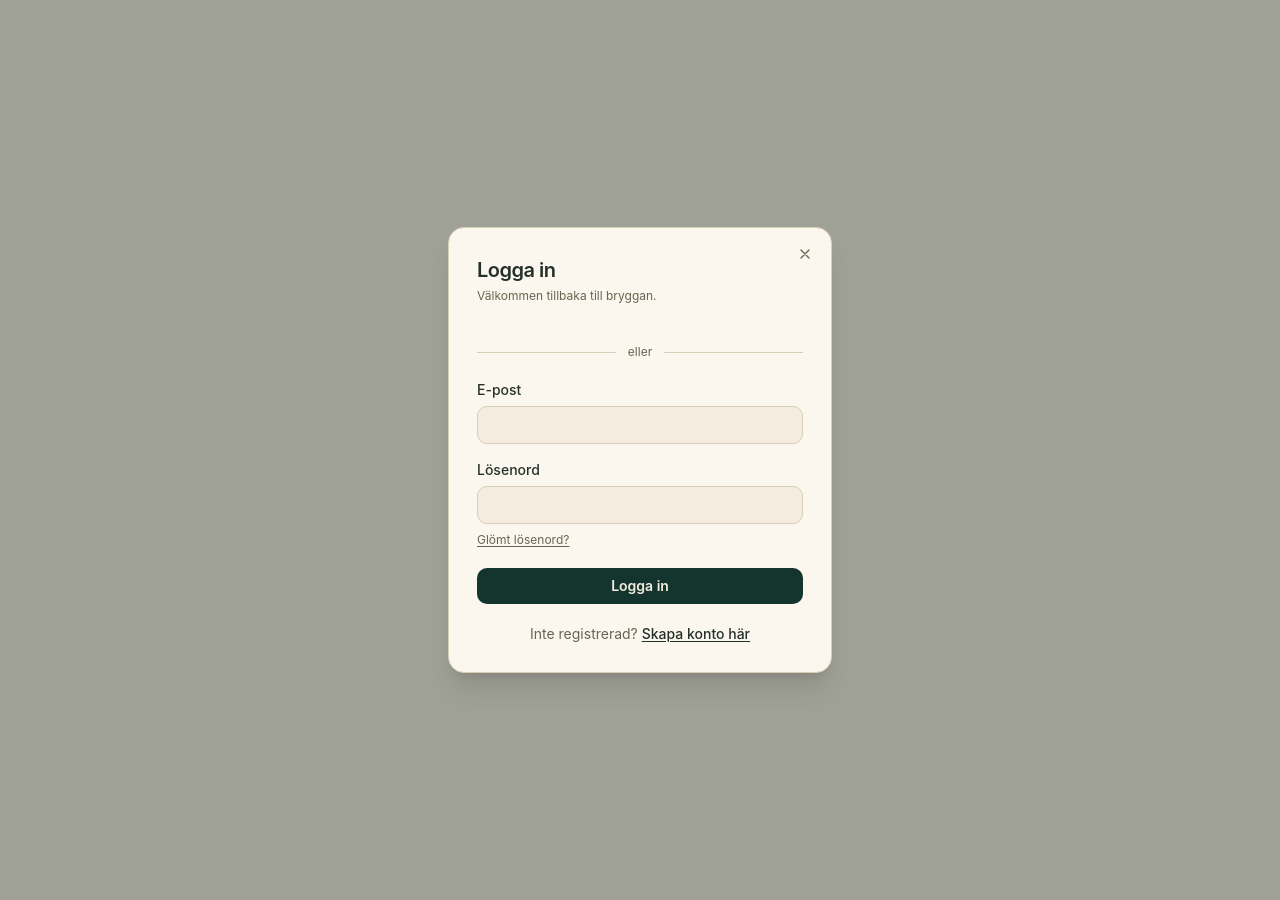
AuthDialog — email verification › unverified login shows the verify-first message
Type "anna@example.com" into the field labelled "E-post". click: (640, 425)
box: [477, 406, 803, 444]
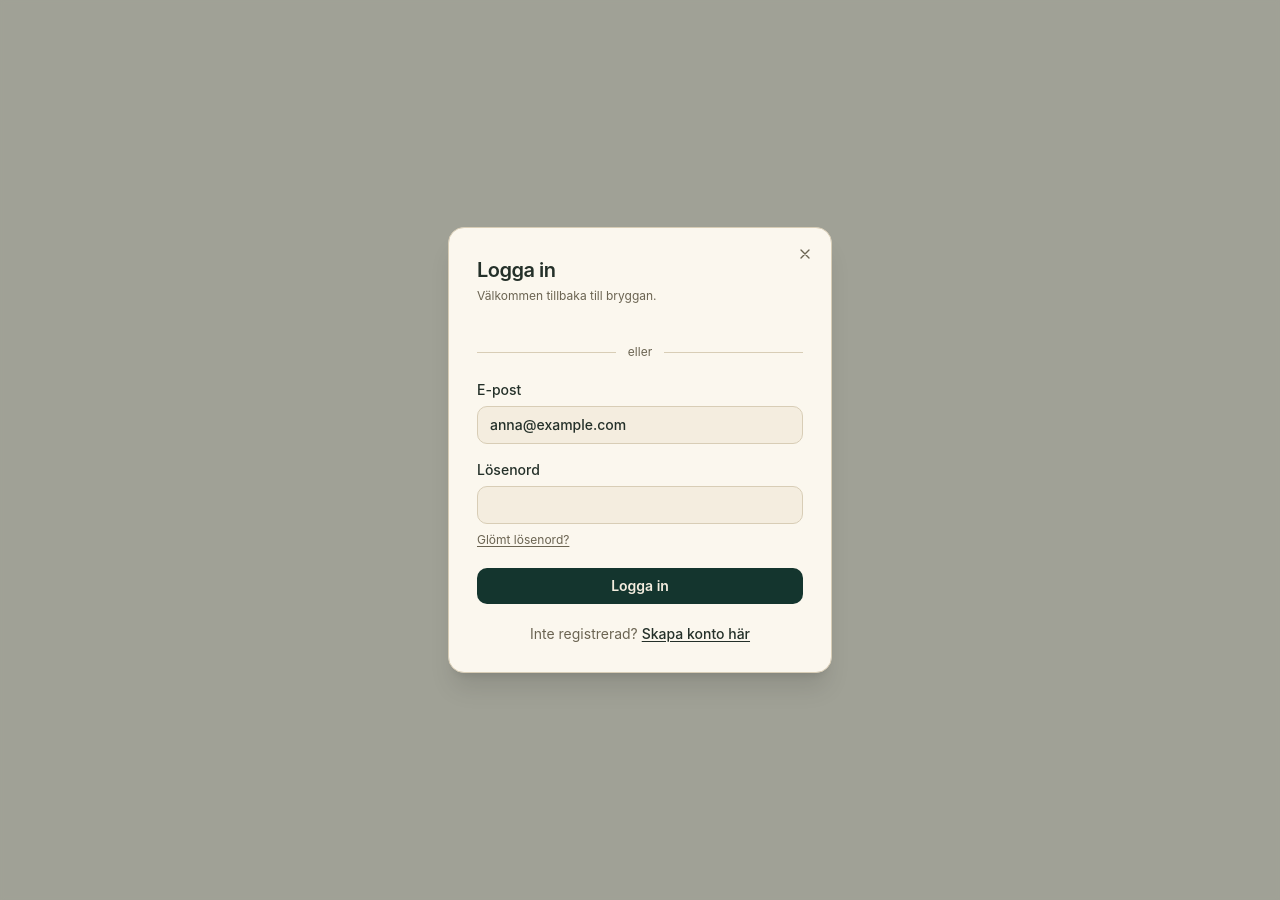
Type "password123" into the password field labelled "Lösenord". click: (640, 505)
box: [477, 486, 803, 524]
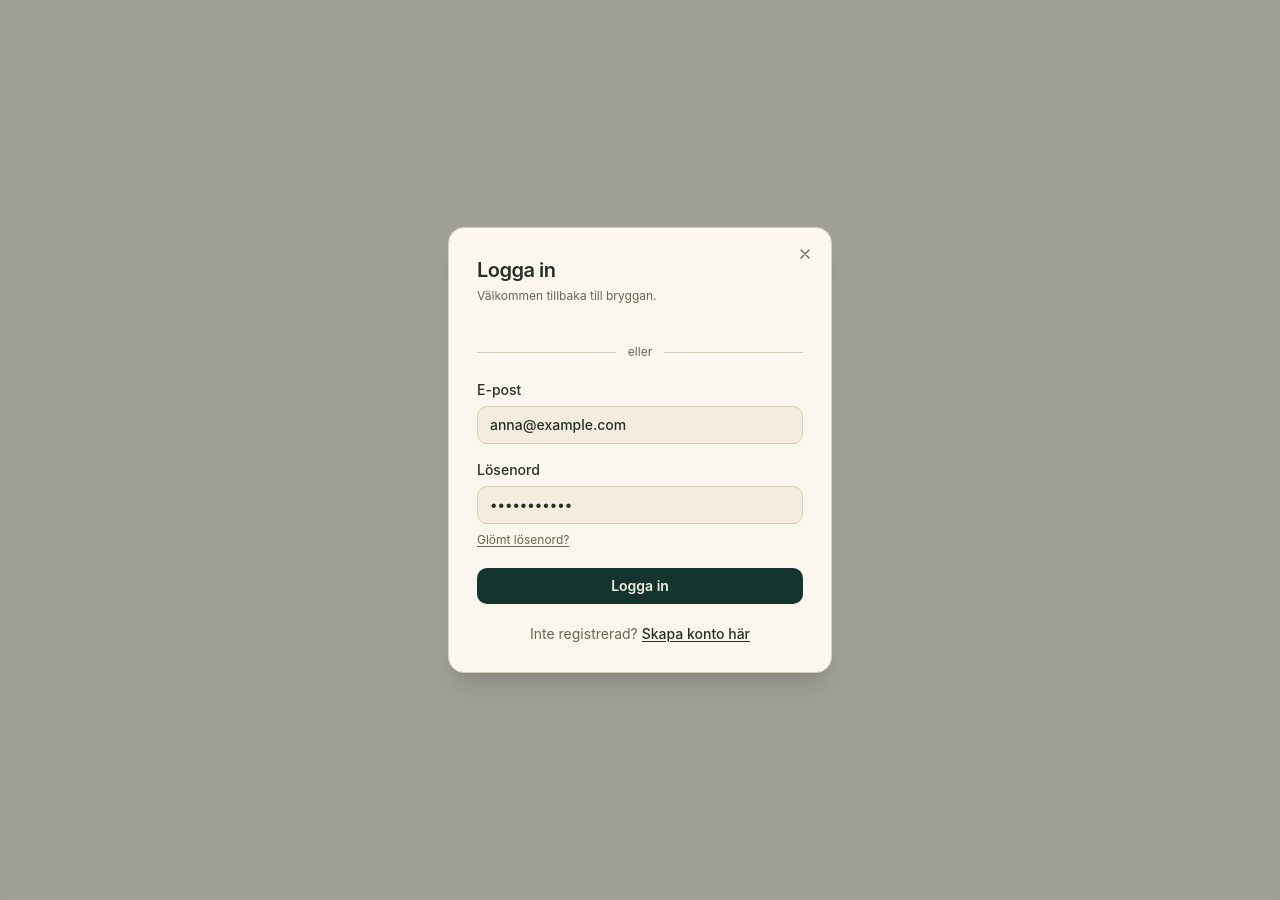
Submit the form from the button "Logga in", box [477, 568, 803, 604]
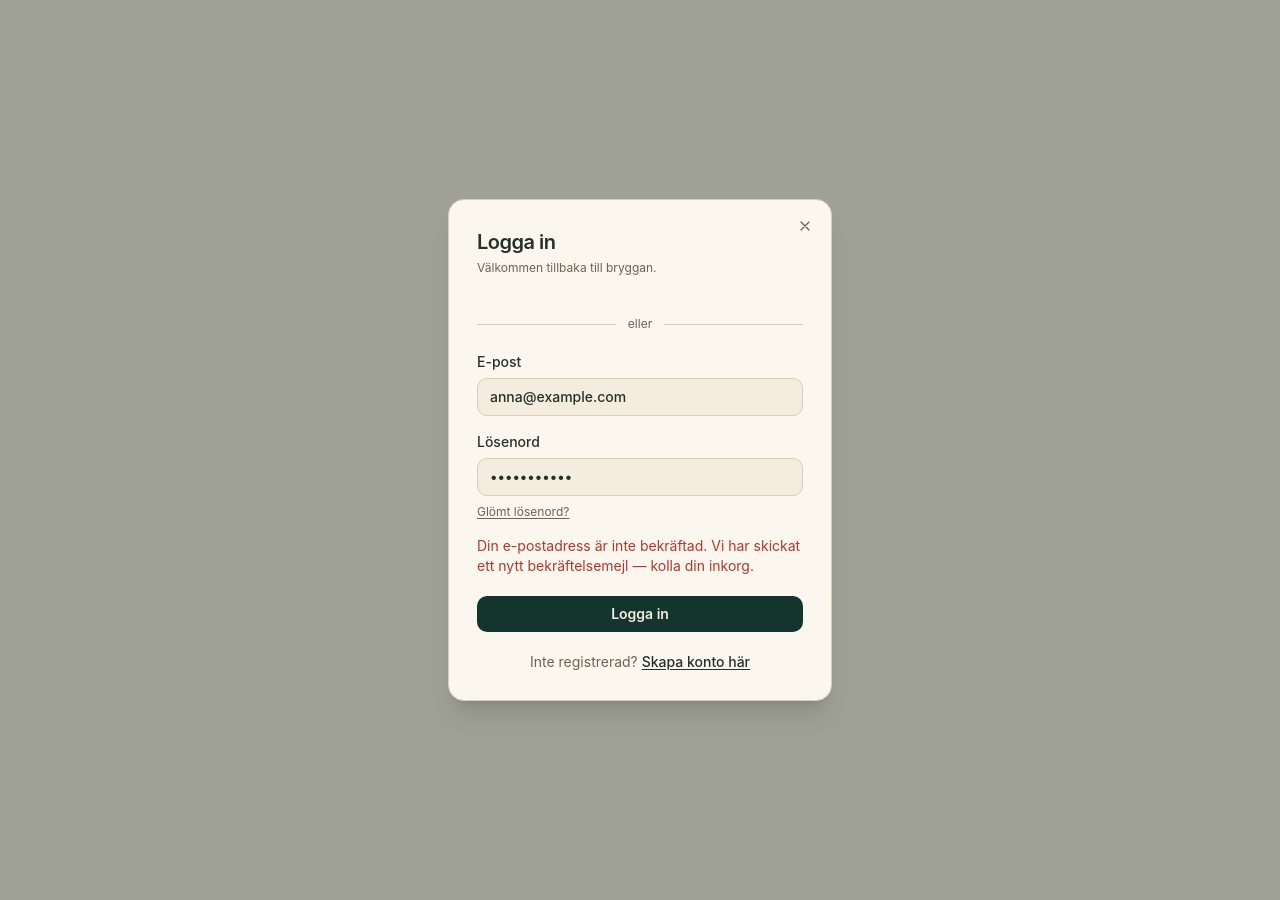
Now the message shows "inte bekräftad", box [477, 537, 800, 574]
Now the message shows "bekräftelsemejl", box [477, 537, 800, 574]
